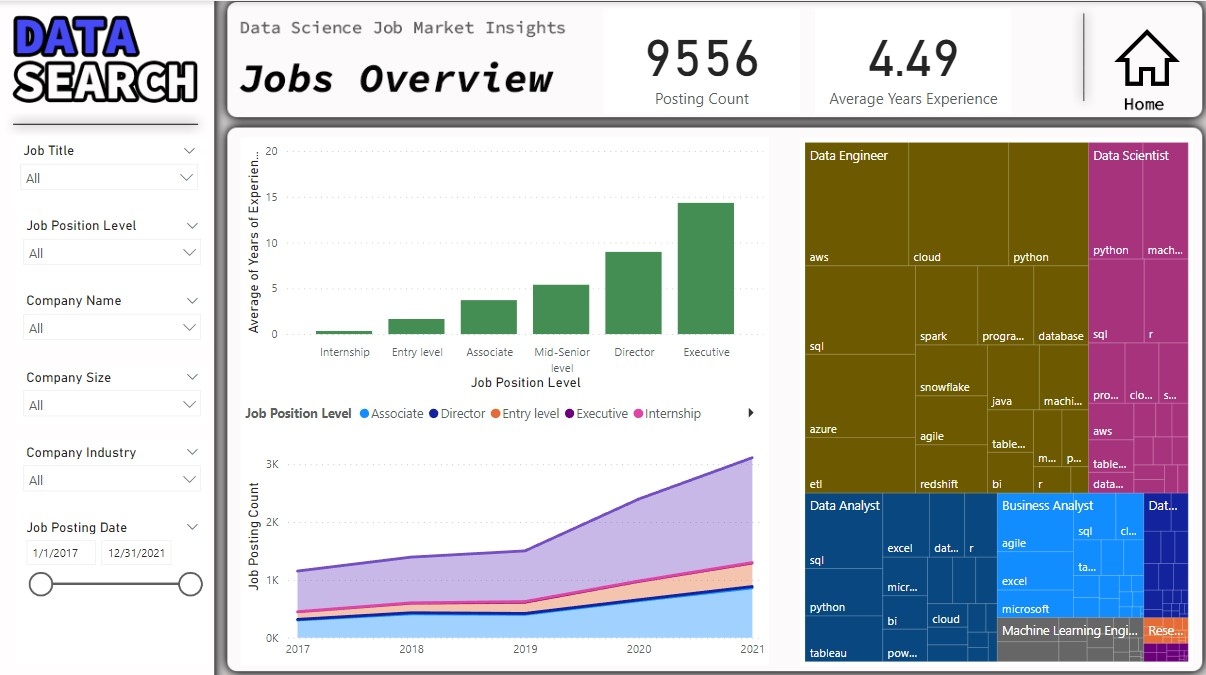

This screenshot's page, from the dashboard's own definition file:
{"tool":"powerbi","page":{"name":"Jobs","canvas":[1280,720],"ordinal":1},"visuals":[{"type":"columnChart","fields":{"Y":["Avg(Job Postings.Years of Experience)"],"Category":["Job Postings.Job Position Level"]},"box":[256,144,560,272],"z":0},{"type":"stackedAreaChart","fields":{"Category":["Job Postings.Job Posting Date.Variation.Date Hierarchy.Year","Job Postings.Job Posting Date.Variation.Date Hierarchy.Quarter","Job Postings.Job Posting Date.Variation.Date Hierarchy.Month","Job Postings.Job Posting Date.Variation.Date Hierarchy.Day"],"Y":["CountNonNull(Job Postings.Job Posting ID)"],"Series":["Job Postings.Job Position Level"]},"box":[256,416,560,288],"z":1000},{"type":"treemap","fields":{"Group":["Job Postings.Job Title"],"Details":["Job Skills.Job Skills"],"Values":["CountNonNull(Job Skills.Job Skills)"]},"box":[848,144,416,560],"z":2000},{"type":"slicer","fields":{"Values":["Job Postings.Job Title"]},"box":[12,144,208,80],"z":3000},{"type":"slicer","fields":{"Values":["Job Postings.Job Position Level"]},"box":[16,224,208,80],"z":4000},{"type":"slicer","fields":{"Values":["Job Postings.Company Name"]},"box":[16,304,208,64],"z":5000},{"type":"slicer","fields":{"Values":["Job Postings.Company Size"]},"box":[16,384,208,64],"z":6000},{"type":"slicer","fields":{"Values":["Job Postings.Company Industry"]},"box":[16,464,208,80],"z":7000},{"type":"slicer","fields":{"Values":["Job Postings.Job Posting Date"]},"box":[16,544,208,160],"z":8000},{"type":"card","fields":{"Values":["_Measures.Posting Count"]},"box":[640,8,208,112],"z":9000},{"type":"card","fields":{"Values":["Avg(Job Postings.Years of Experience)"]},"box":[864,8,208,112],"z":10000},{"type":"image","box":[1176,16,80,88],"z":11000}]}

Visuals, with their boxes in screenshot pixels (x1, y1, x2, y2), scaled from the page's 1280x720 canvas onto the 1206x675 screenshot:
columnChart - Avg(Job Postings.Years of Experience) x Job Postings.Job Position Level: x1=241 y1=135 x2=769 y2=390
stackedAreaChart - Job Postings.Job Posting Date.Variation.Date Hierarchy.Year x Job Postings.Job Posting Date.Variation.Date Hierarchy.Quarter: x1=241 y1=390 x2=769 y2=660
treemap - Job Postings.Job Title x Job Skills.Job Skills: x1=799 y1=135 x2=1191 y2=660
slicer - Job Postings.Job Title: x1=11 y1=135 x2=207 y2=210
slicer - Job Postings.Job Position Level: x1=15 y1=210 x2=211 y2=285
slicer - Job Postings.Company Name: x1=15 y1=285 x2=211 y2=345
slicer - Job Postings.Company Size: x1=15 y1=360 x2=211 y2=420
slicer - Job Postings.Company Industry: x1=15 y1=435 x2=211 y2=510
slicer - Job Postings.Job Posting Date: x1=15 y1=510 x2=211 y2=660
card - _Measures.Posting Count: x1=603 y1=8 x2=799 y2=112
card - Avg(Job Postings.Years of Experience): x1=814 y1=8 x2=1010 y2=112
image: x1=1108 y1=15 x2=1183 y2=98
